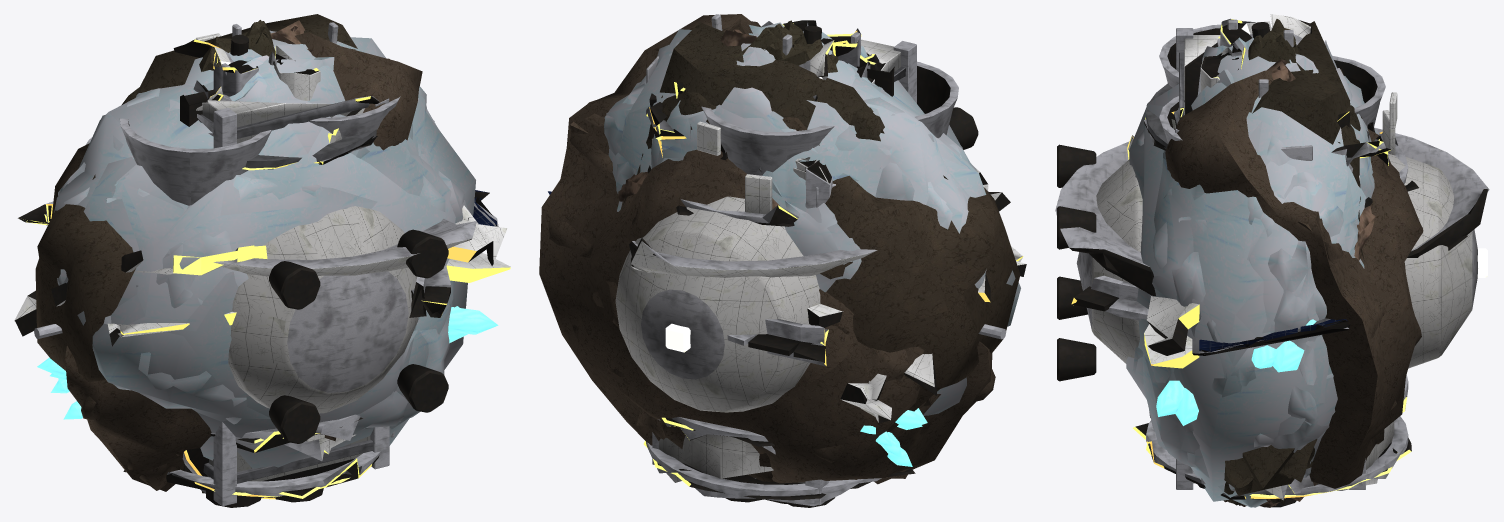
File: truemmer.bausatz.glb
3 views of the same model, side by side, from view 1: azimuth 30°, elevation 25°; view 2: azimuth 150°, elevation 25°; view 3: azimuth 270°, elevation 25° (orthographic). The views are drawn at different scales.
Parts seen in each view (by area): view 1: fels_eis_klein, wrack_kapsel, fels_eis_mini, fels_fels_klein, fels_eis_held, fels_kristall_klein, wrack_container, wrack_rumpf, wrack_triebwerk, wrack_splitter, wrack_schuessel, wrack_rohre (+10 smaller); view 2: fels_fels_klein, wrack_kapsel, fels_kristall_klein, wrack_rumpf, fels_eis_klein, fels_eis_held, fels_kohle_mini, fels_eis_mini, fels_fels_held, wrack_triebwerk, fels_fels_mini, wrack_schuessel (+11 smaller); view 3: fels_fels_klein, fels_eis_mini, wrack_kapsel, fels_eis_klein, fels_eis_held, wrack_schuessel, wrack_rumpf, fels_kohle_mini, wrack_triebwerk, wrack_container, wrack_splitter, fels_kohle_held (+12 smaller).
Part boxes in pixels (bbox=[...]): fels_eis_klein: bbox=[54, 30, 467, 429]; wrack_kapsel: bbox=[228, 206, 448, 443]; fels_eis_mini: bbox=[77, 37, 475, 476]; fels_fels_klein: bbox=[65, 32, 422, 491]; fels_eis_held: bbox=[58, 32, 469, 433]; fels_kristall_klein: bbox=[35, 143, 135, 382]; wrack_container: bbox=[197, 96, 389, 506]; wrack_rumpf: bbox=[123, 33, 394, 498]; wrack_triebwerk: bbox=[120, 73, 400, 205]; wrack_splitter: bbox=[14, 205, 507, 336]; wrack_schuessel: bbox=[86, 137, 476, 276]; wrack_rohre: bbox=[206, 45, 323, 507]; fels_fels_klein: bbox=[539, 14, 992, 484]; wrack_kapsel: bbox=[615, 107, 978, 412]; fels_kristall_klein: bbox=[782, 117, 1020, 430]; wrack_rumpf: bbox=[643, 56, 915, 506]; fels_eis_klein: bbox=[606, 42, 1020, 326]; fels_eis_held: bbox=[604, 22, 1017, 420]; fels_kohle_mini: bbox=[623, 22, 947, 205]; fels_eis_mini: bbox=[618, 29, 1015, 415]; fels_fels_held: bbox=[548, 24, 995, 482]; wrack_triebwerk: bbox=[701, 61, 958, 175]; fels_fels_mini: bbox=[600, 194, 940, 478]; wrack_schuessel: bbox=[629, 238, 877, 277]; fels_fels_klein: bbox=[1165, 70, 1423, 488]; fels_eis_mini: bbox=[1126, 38, 1366, 501]; wrack_kapsel: bbox=[1057, 144, 1487, 381]; fels_eis_klein: bbox=[1129, 45, 1373, 507]; fels_eis_held: bbox=[1132, 37, 1379, 507]; wrack_schuessel: bbox=[1055, 127, 1489, 296]; wrack_rumpf: bbox=[1133, 83, 1418, 500]; fels_kohle_mini: bbox=[1242, 21, 1364, 494]; wrack_triebwerk: bbox=[1159, 24, 1385, 142]; wrack_container: bbox=[1174, 28, 1365, 489]; wrack_splitter: bbox=[1127, 135, 1199, 355]; fels_kohle_held: bbox=[1224, 105, 1362, 505].
Bounding box in the file's own units: 1.98 × 1.99 × 1.73.
Materials: 10 (8 with a texture image).
